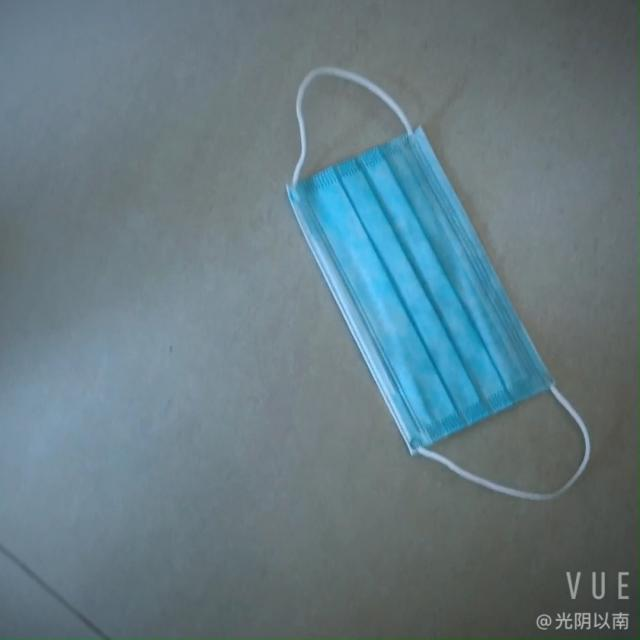face mask: (317, 119, 569, 469)
